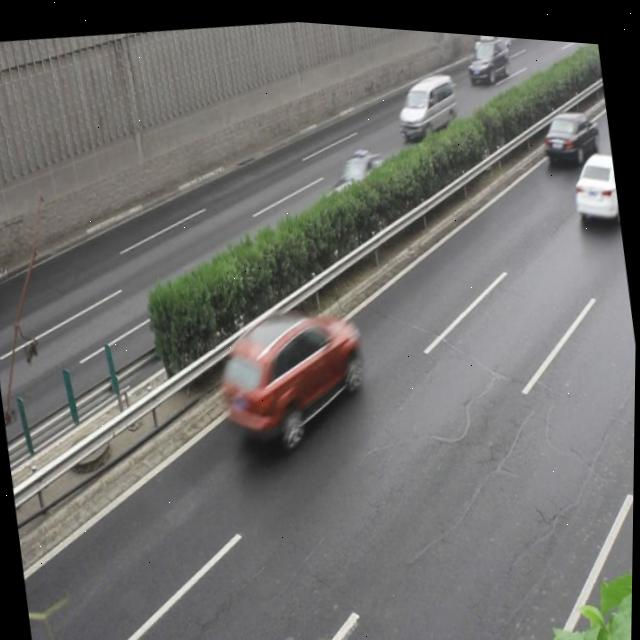car: (219, 296, 373, 447), (318, 140, 408, 229), (568, 140, 621, 216), (541, 98, 599, 156), (463, 27, 512, 85)
truck: (394, 66, 460, 135)
